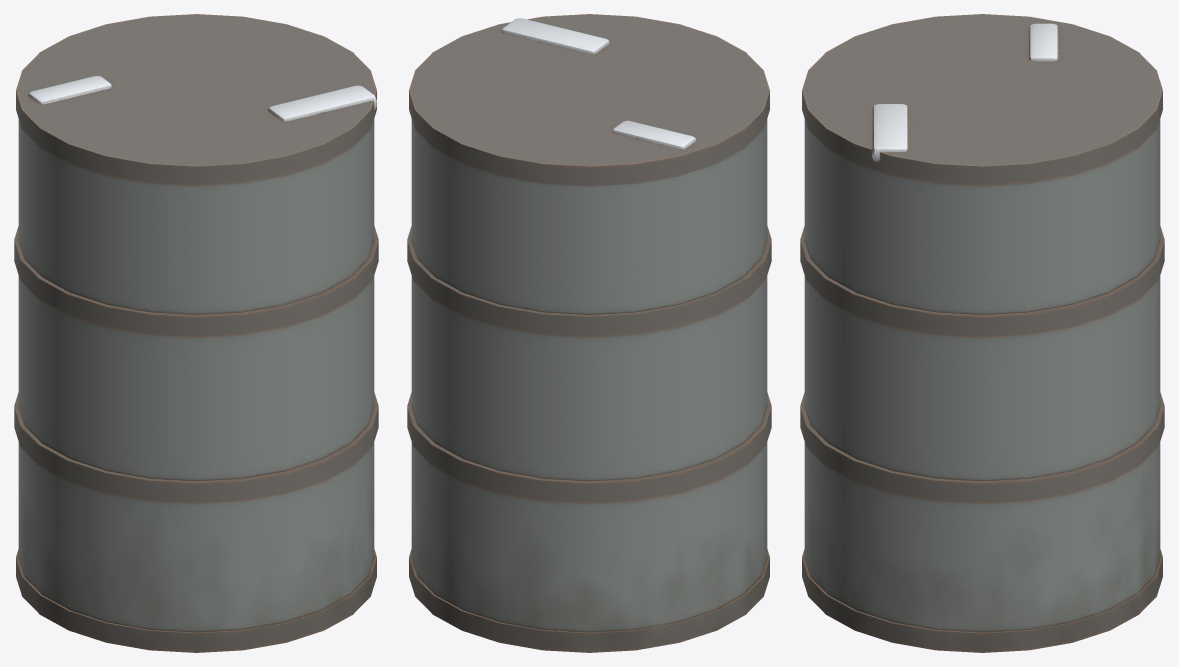
File: soviet_barrel_open.glb
The picture shows the model from 3 angles, left to right: view 1: azimuth 30°, elevation 25°; view 2: azimuth 150°, elevation 25°; view 3: azimuth 270°, elevation 25°; orthographic projection.
Visible parts, largest first — view 1: soviet_barrel_open; view 2: soviet_barrel_open; view 3: soviet_barrel_open.
Part boxes in pixels (x1,y1,x2,y2): soviet_barrel_open: (14, 14, 378, 652); soviet_barrel_open: (407, 14, 771, 652); soviet_barrel_open: (800, 14, 1164, 652).
Bounding box in the file's own units: 0.5945 × 0.8825 × 0.5945.
1 material, 1 textured.
